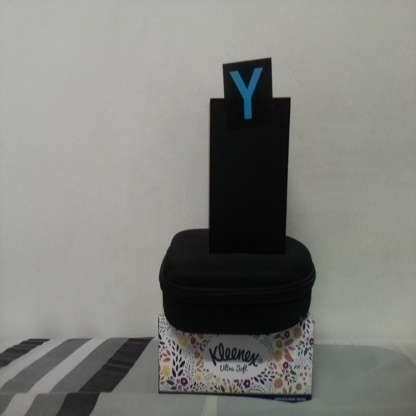id_14: (223, 64, 273, 128)
